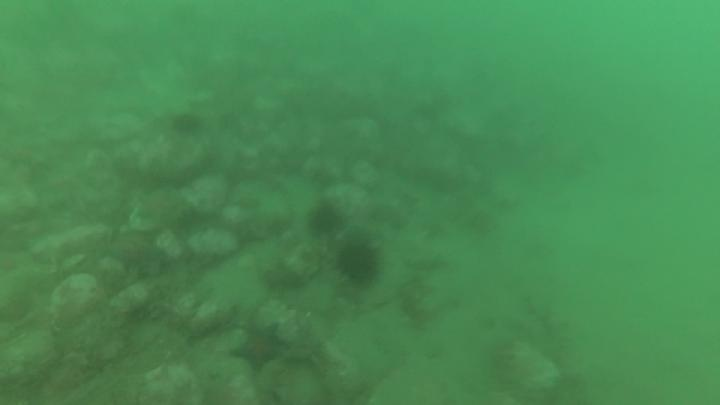echinus: (335, 239, 382, 288), (306, 200, 345, 239), (169, 110, 204, 139)
starfish: (132, 186, 196, 236), (229, 322, 287, 375)
